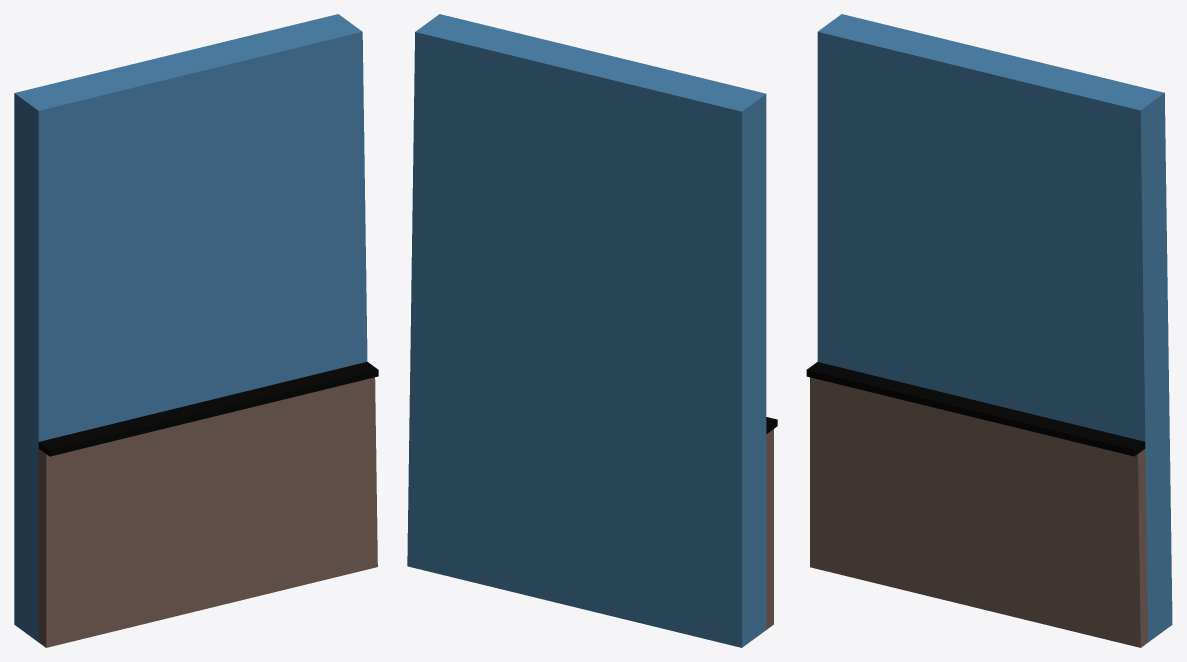
Rendered from P_Wall_Small.fbx.
3 renders of one model, left to right at view 1: azimuth 30°, elevation 25°; view 2: azimuth 150°, elevation 25°; view 3: azimuth 330°, elevation 25°, orthographic.
Visible parts, largest first — view 1: P_Wall_Small; view 2: P_Wall_Small; view 3: P_Wall_Small.
Boxes of the visible parts, x1,y1,x2,y2 form: P_Wall_Small: [14, 14, 378, 647]; P_Wall_Small: [407, 14, 777, 647]; P_Wall_Small: [806, 14, 1172, 647].
Bounding box in the file's own units: 1024 × 189 × 1568.
